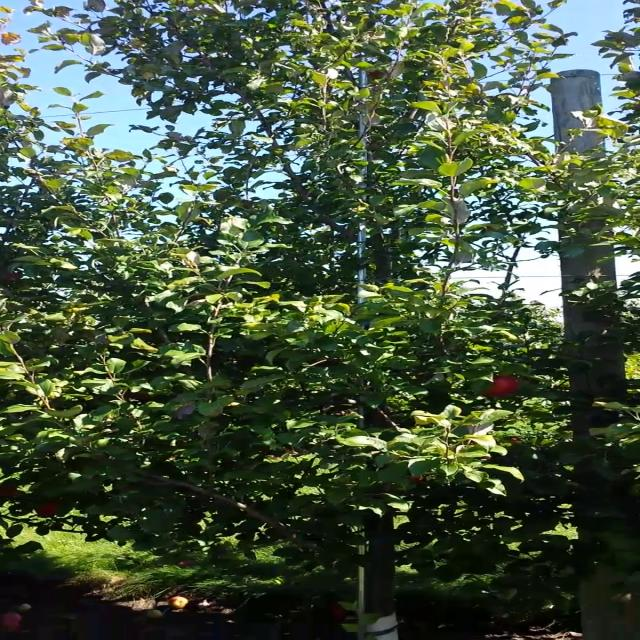apple: (480, 375, 521, 397), (36, 500, 60, 518), (366, 71, 385, 81), (409, 474, 426, 484), (1, 486, 16, 496)
